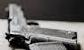gun: (1, 1, 84, 50)
